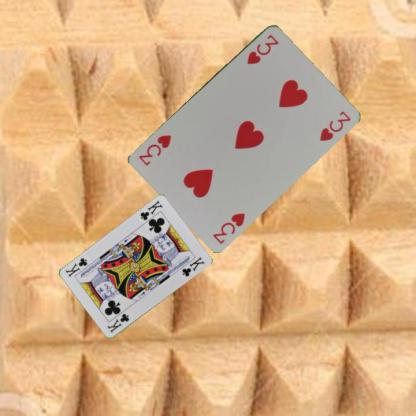3h: (210, 210, 246, 245), (244, 31, 280, 65)
Kc: (138, 198, 164, 222), (104, 311, 130, 334)
